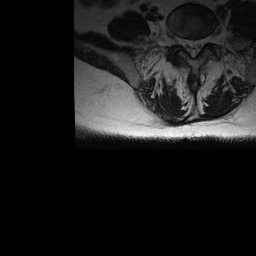CCS_normal: (190, 34, 196, 61)
LFS_normal: (202, 31, 209, 48)
LLS_normal: (196, 35, 203, 55)
RFS_normal: (175, 32, 183, 50)
RLS_normal: (183, 33, 190, 57)
